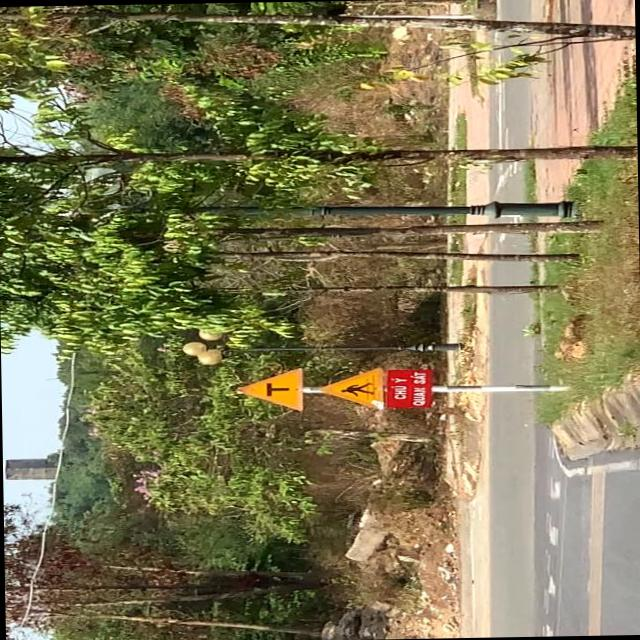W-205d: (231, 363, 305, 412)
W-224: (314, 366, 385, 412)
